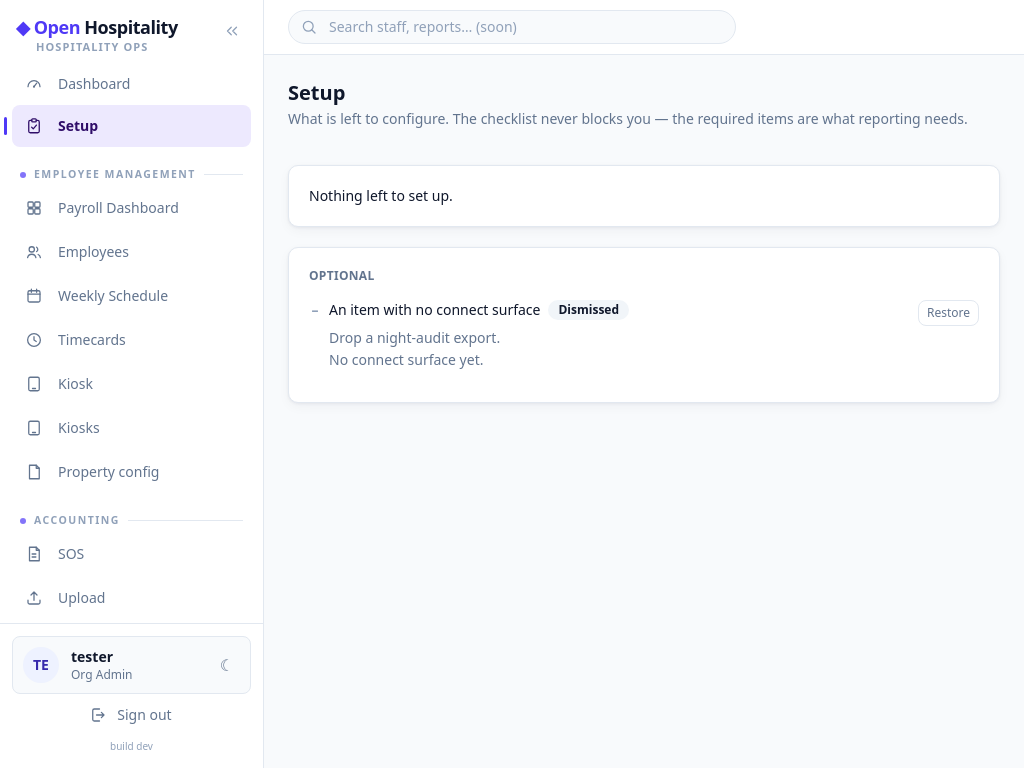
Scenario: ChecklistPage — dismissal › an org admin can restore a dismissed item, and the list refetches
This screenshot has width=1024, height=768.
Click the button with aria-label "restore an item with no connect surface" at (948, 313), box [918,300,979,326]
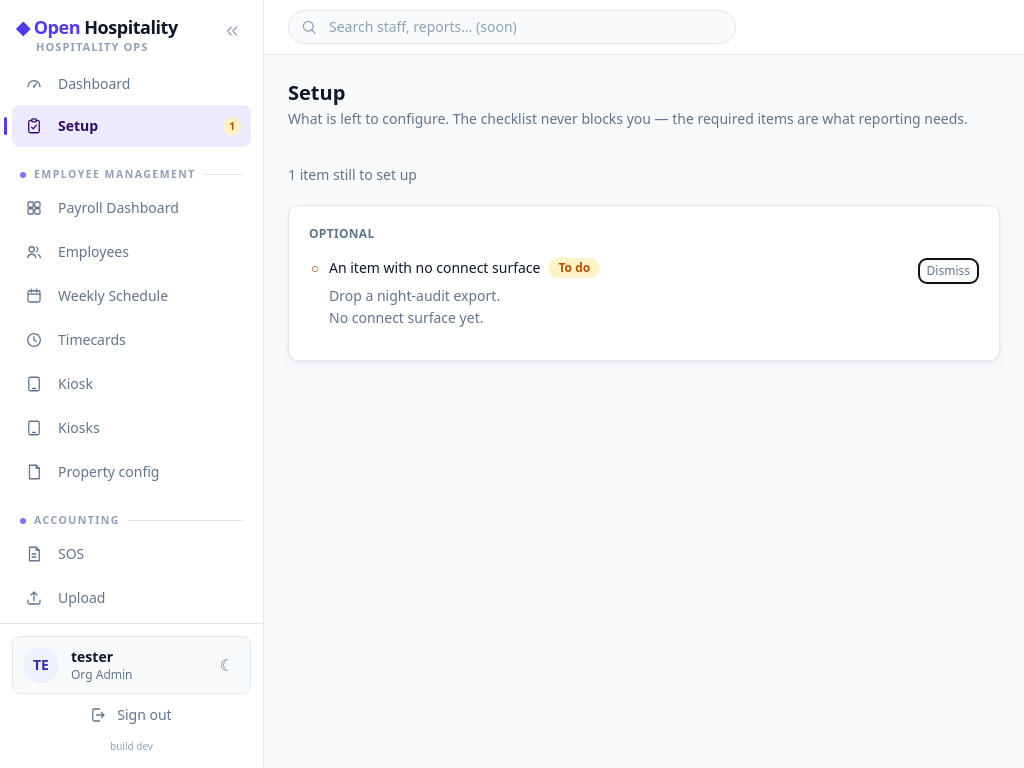
expect the button with aria-label "dismiss an item with no connect surface" is shown: met, box [918,258,979,284]
